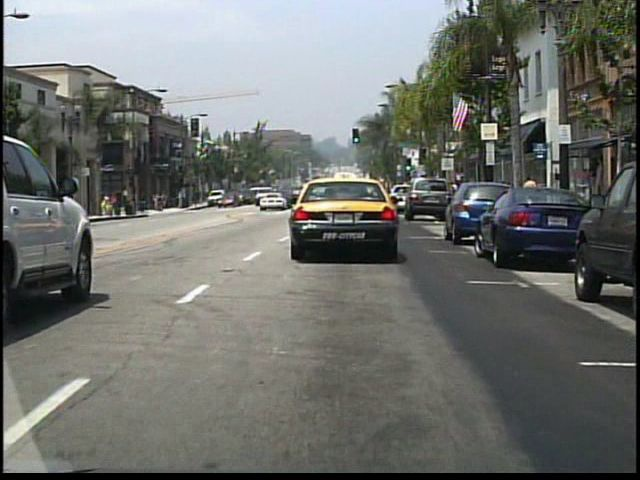person: (522, 174, 540, 215), (138, 190, 148, 213), (231, 187, 241, 210)
